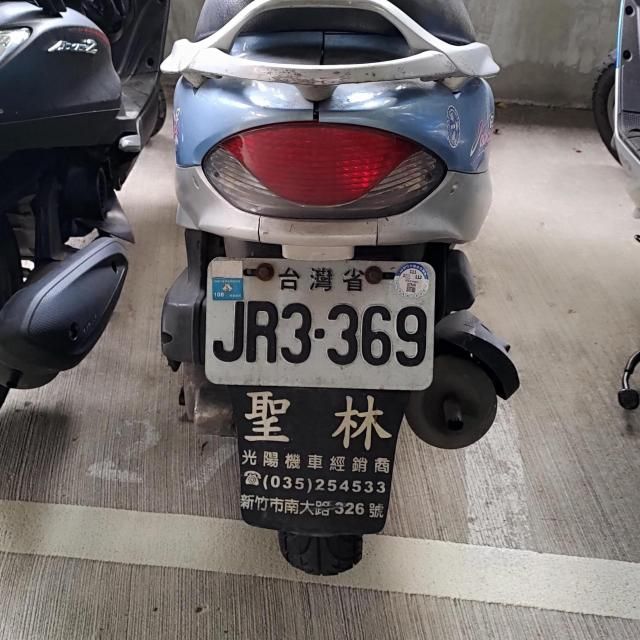W: (199, 246, 435, 394)
